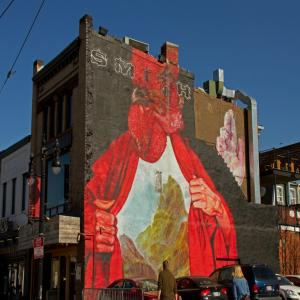Vehicle-registration-plate: (215, 292, 221, 297), (268, 287, 273, 291)
